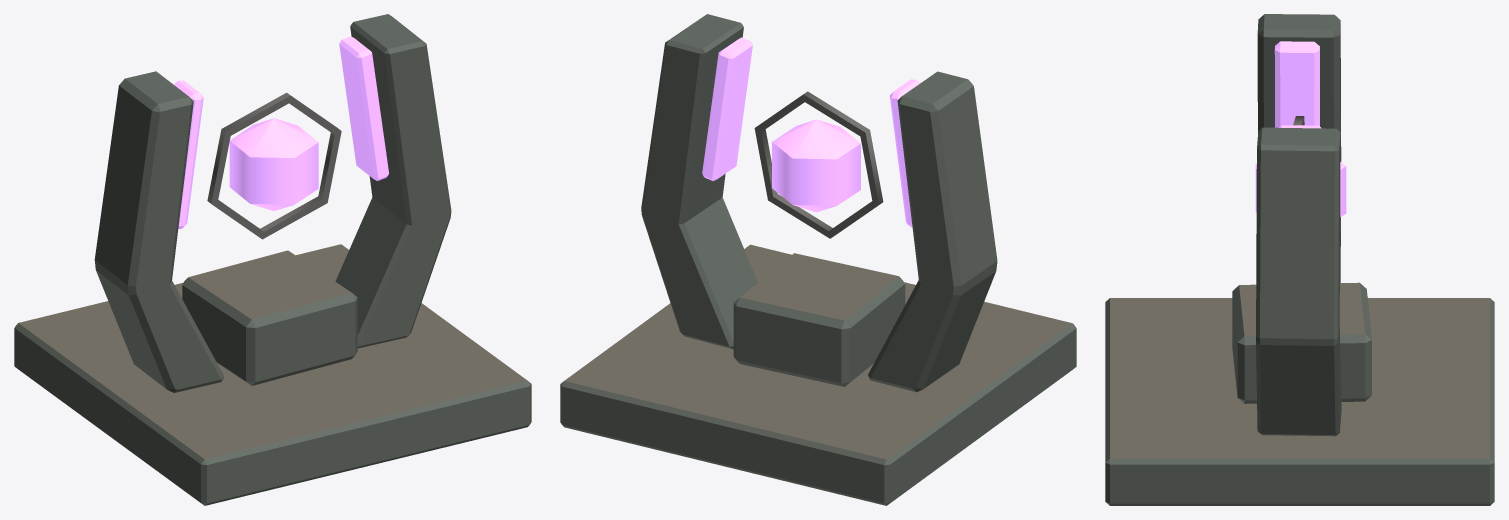
File: R4X_Blink_LOD1.fbx
3 renders of one model, left to right at view 1: azimuth 30°, elevation 25°; view 2: azimuth 150°, elevation 25°; view 3: azimuth 270°, elevation 25°, orthographic. The views are drawn at different scales.
Visible parts, largest first — view 1: R4X_Blink_LOD1; view 2: R4X_Blink_LOD1; view 3: R4X_Blink_LOD1.
Part boxes in pixels (bbox=[...]): R4X_Blink_LOD1: bbox=[14, 14, 531, 505]; R4X_Blink_LOD1: bbox=[560, 14, 1076, 505]; R4X_Blink_LOD1: bbox=[1105, 14, 1494, 505].
Size of the model in its own units: 0.52 by 0.51 by 0.52.
